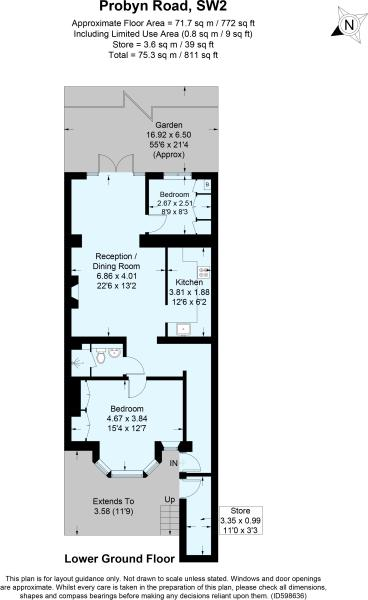GardenMeasurements: (144, 120, 195, 161)
GrossArea: (69, 16, 259, 28)
